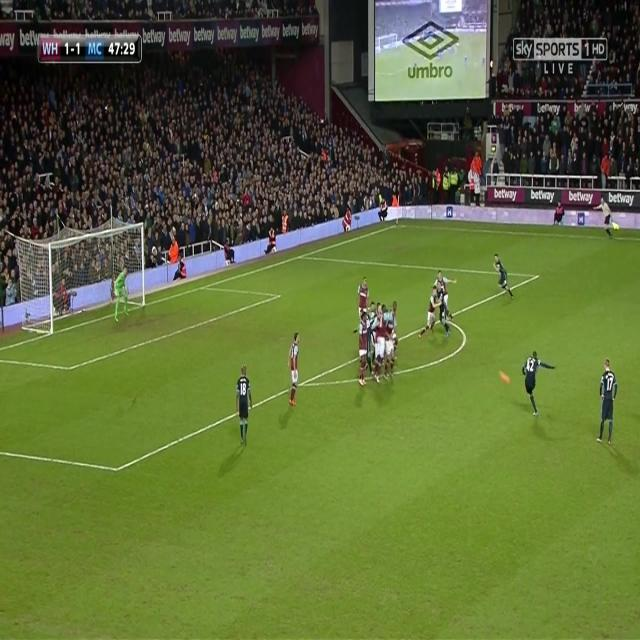Ball: (492, 366, 514, 390)
Goalkeeper: (111, 263, 131, 329)
Player: (521, 348, 557, 420), (594, 354, 620, 448), (233, 362, 253, 449), (286, 330, 302, 410), (418, 288, 442, 341), (492, 252, 516, 298), (374, 306, 386, 390), (358, 311, 370, 390), (435, 266, 457, 309), (438, 284, 452, 344), (386, 312, 398, 380), (356, 274, 371, 306)
Referee: (594, 195, 616, 238)
